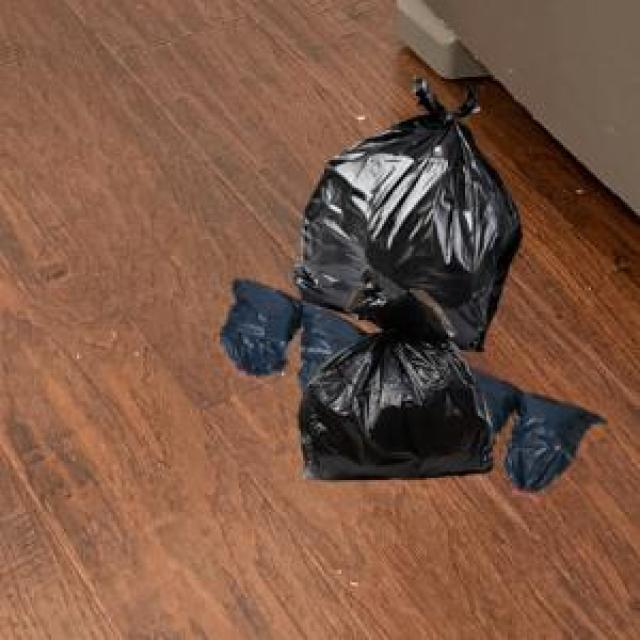Vinyl: (221, 80, 604, 491)
